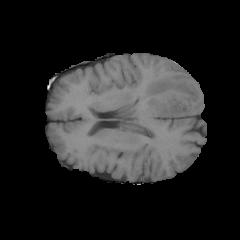glioma: (136, 74, 197, 117)
